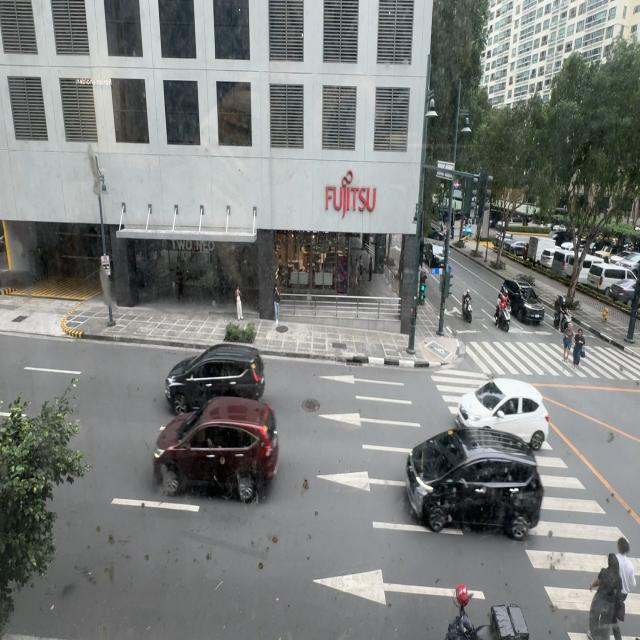crossing: (586, 545, 618, 640), (613, 530, 638, 622), (573, 328, 585, 368), (562, 322, 574, 361)
pedestrain: (273, 284, 281, 326), (235, 285, 243, 321)
